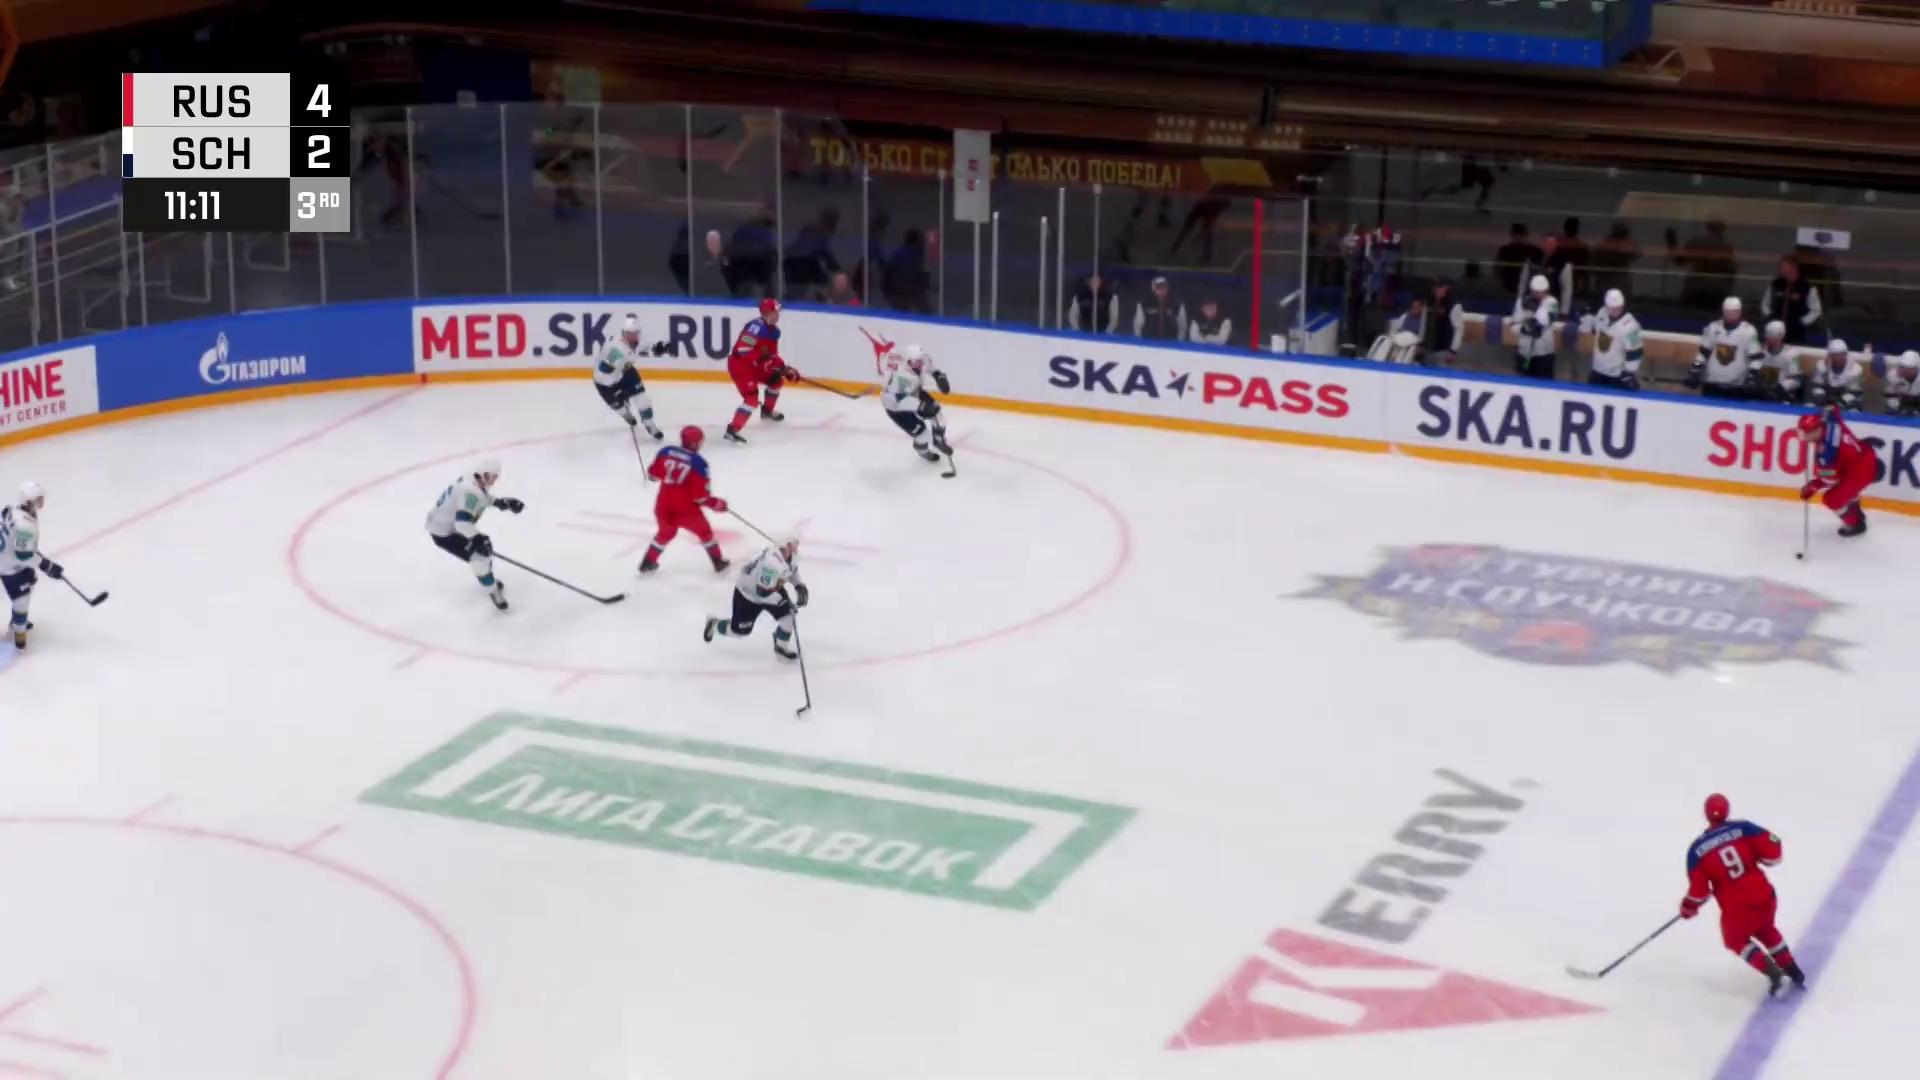ball: (1795, 553, 1805, 560)
